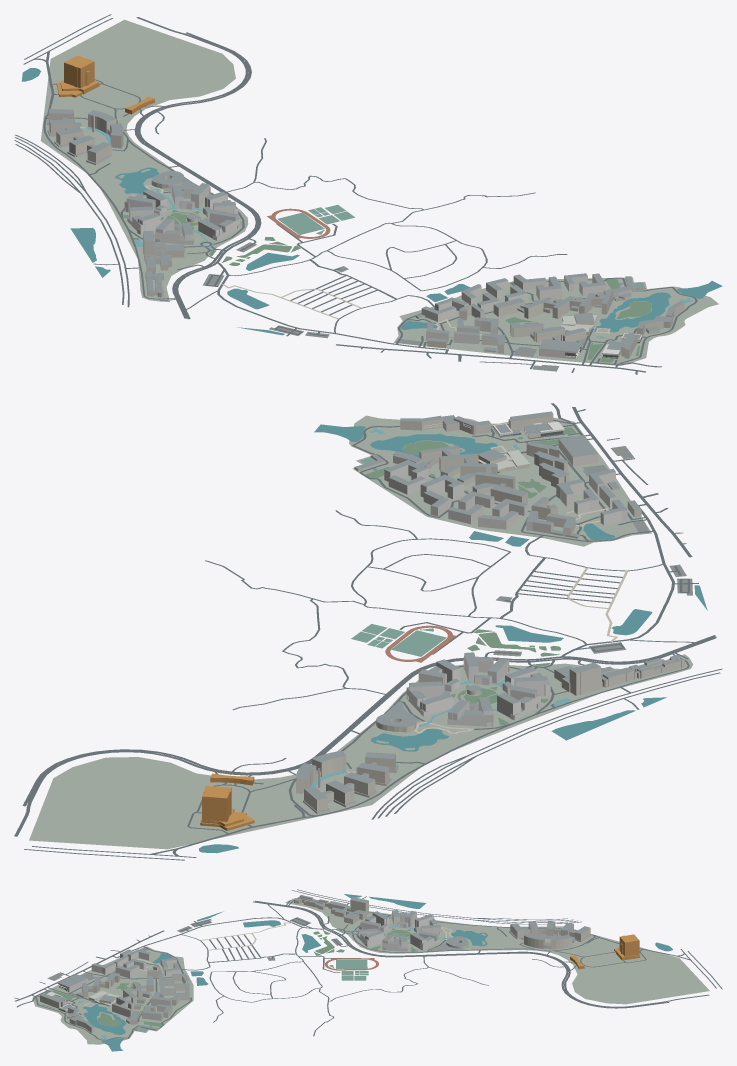
3 renders of one model, top to bottom at view 1: azimuth 30°, elevation 25°; view 2: azimuth 150°, elevation 25°; view 3: azimuth 270°, elevation 25°, orthographic. The views are drawn at different scales.
Parts seen in each view (by area): view 1: datum | phase 2.002, Campus 1 buildings | mapped_unverified_current, Campus 2 buildings | mapped_unverified_current, road | phase context.002, datum | phase 1.002, water | phase context.002, road | phase 2.002, water | phase 1.002, Campus 2 buildings | construction_unverified, road | phase 1.002, sport | phase context.002, vegetation | phase 1.002 (+2 smaller); view 2: datum | phase 2.002, Campus 1 buildings | mapped_unverified_current, Campus 2 buildings | mapped_unverified_current, road | phase context.002, datum | phase 1.002, water | phase context.002, road | phase 2.002, Campus 2 buildings | construction_unverified, water | phase 1.002, road | phase 1.002, sport | phase context.002, vegetation | phase 1.002 (+3 smaller); view 3: datum | phase 2.002, Campus 1 buildings | mapped_unverified_current, Campus 2 buildings | mapped_unverified_current, road | phase context.002, datum | phase 1.002, water | phase context.002, road | phase 2.002, water | phase 1.002, road | phase 1.002, Campus 2 buildings | construction_unverified, sport | phase context.002, vegetation | phase 1.002 (+3 smaller).
Part boxes in pixels (<box>): datum | phase 2.002: <box>40,19,248,301</box>; Campus 1 buildings | mapped_unverified_current: <box>415,273,692,358</box>; Campus 2 buildings | mapped_unverified_current: <box>46,109,240,297</box>; road | phase context.002: <box>14,14,661,374</box>; datum | phase 1.002: <box>393,277,718,365</box>; water | phase context.002: <box>21,68,722,335</box>; road | phase 2.002: <box>43,68,244,300</box>; water | phase 1.002: <box>400,282,704,332</box>; Campus 2 buildings | construction_unverified: <box>56,55,154,114</box>; road | phase 1.002: <box>396,277,697,365</box>; sport | phase context.002: <box>277,204,354,234</box>; vegetation | phase 1.002: <box>505,279,651,362</box>; datum | phase 2.002: <box>29,654,693,849</box>; Campus 1 buildings | mapped_unverified_current: <box>354,411,641,538</box>; Campus 2 buildings | mapped_unverified_current: <box>296,652,684,814</box>; road | phase context.002: <box>14,403,722,860</box>; datum | phase 1.002: <box>349,415,651,546</box>; water | phase context.002: <box>199,424,707,853</box>; road | phase 2.002: <box>187,655,689,843</box>; Campus 2 buildings | construction_unverified: <box>200,773,254,830</box>; water | phase 1.002: <box>349,426,614,540</box>; road | phase 1.002: <box>351,418,650,541</box>; sport | phase context.002: <box>351,624,446,656</box>; vegetation | phase 1.002: <box>365,427,575,498</box>; datum | phase 2.002: <box>285,897,709,1004</box>; Campus 1 buildings | mapped_unverified_current: <box>40,949,190,1038</box>; Campus 2 buildings | mapped_unverified_current: <box>294,894,591,951</box>; road | phase context.002: <box>14,889,722,1036</box>; datum | phase 1.002: <box>32,946,193,1044</box>; water | phase context.002: <box>105,894,672,1051</box>; road | phase 2.002: <box>287,898,662,967</box>; water | phase 1.002: <box>83,953,172,1043</box>; road | phase 1.002: <box>33,947,191,1040</box>; Campus 2 buildings | construction_unverified: <box>570,934,640,969</box>; sport | phase context.002: <box>329,960,368,980</box>; vegetation | phase 1.002: <box>41,983,162,1026</box>.
Size of the model in its own units: 1244 by 61.45 by 2297.
